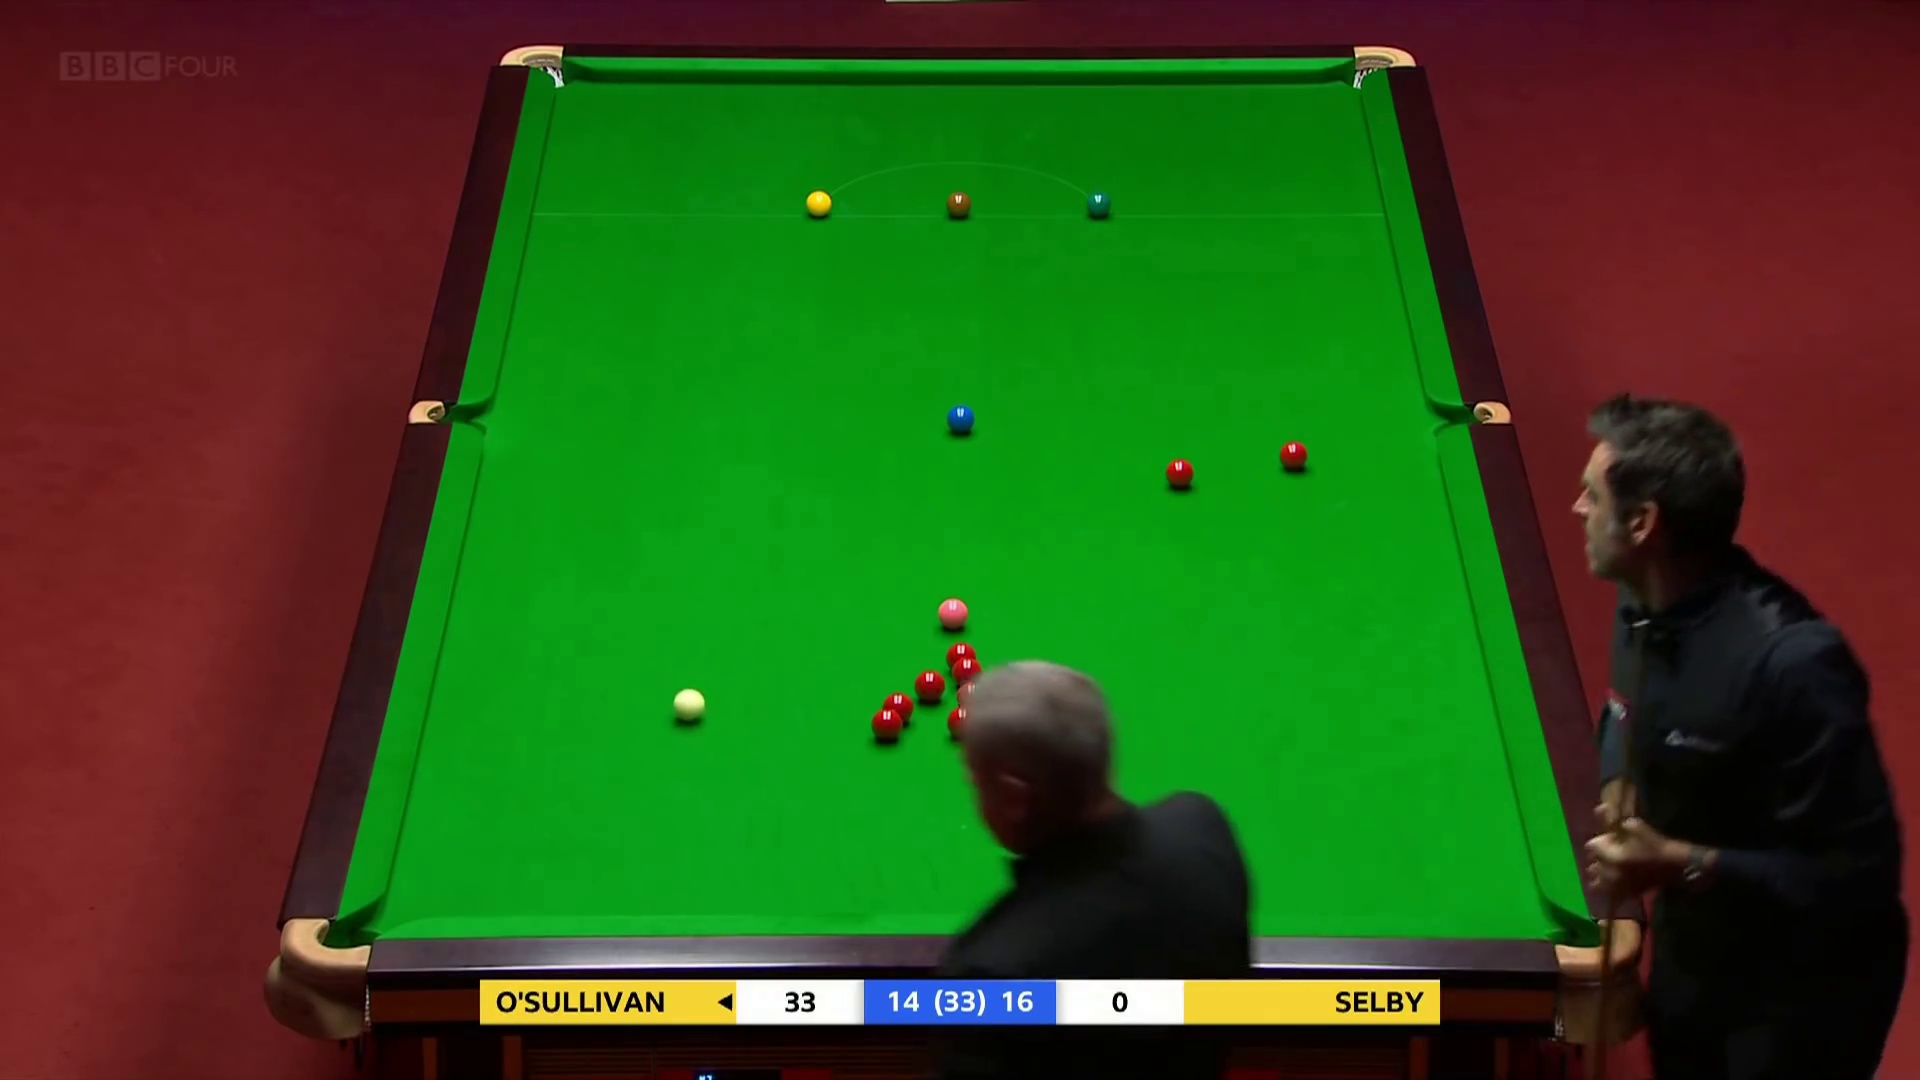blue: (943, 400, 978, 442)
brown: (942, 185, 976, 222)
green: (1084, 186, 1120, 225)
pink: (932, 592, 976, 637)
red: (943, 640, 980, 680), (942, 702, 978, 742), (911, 669, 947, 711), (1274, 433, 1309, 475), (1162, 455, 1197, 496), (872, 707, 906, 745), (884, 691, 915, 728), (953, 657, 988, 690)
white: (669, 684, 713, 728)
yellow: (804, 191, 837, 223)
